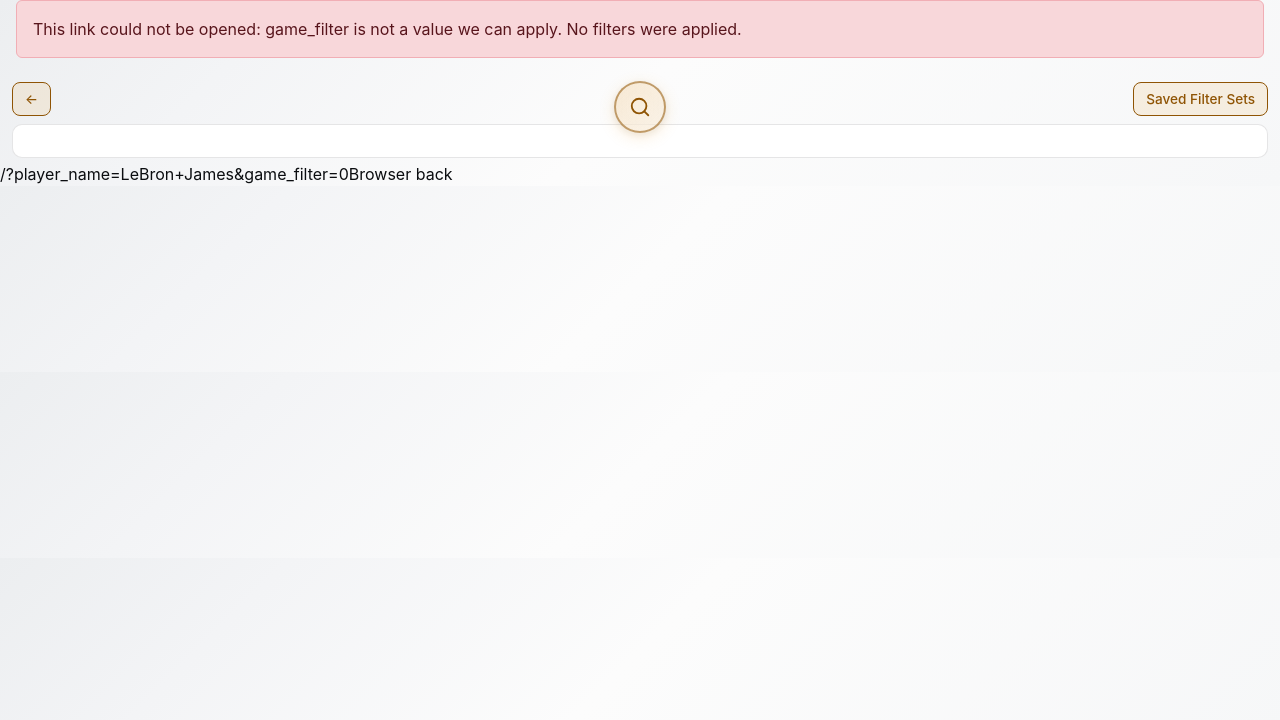
Test case: a refused link, which has no panel, keeps the way out to the saved list
The width and height of the screenshot is (1280, 720).
Check: the message shows "game_filter", box x1=33 y1=19 x2=742 y2=39
Click the button "Saved Filter Sets" at (1201, 99), box x1=1133 y1=82 x2=1268 y2=116
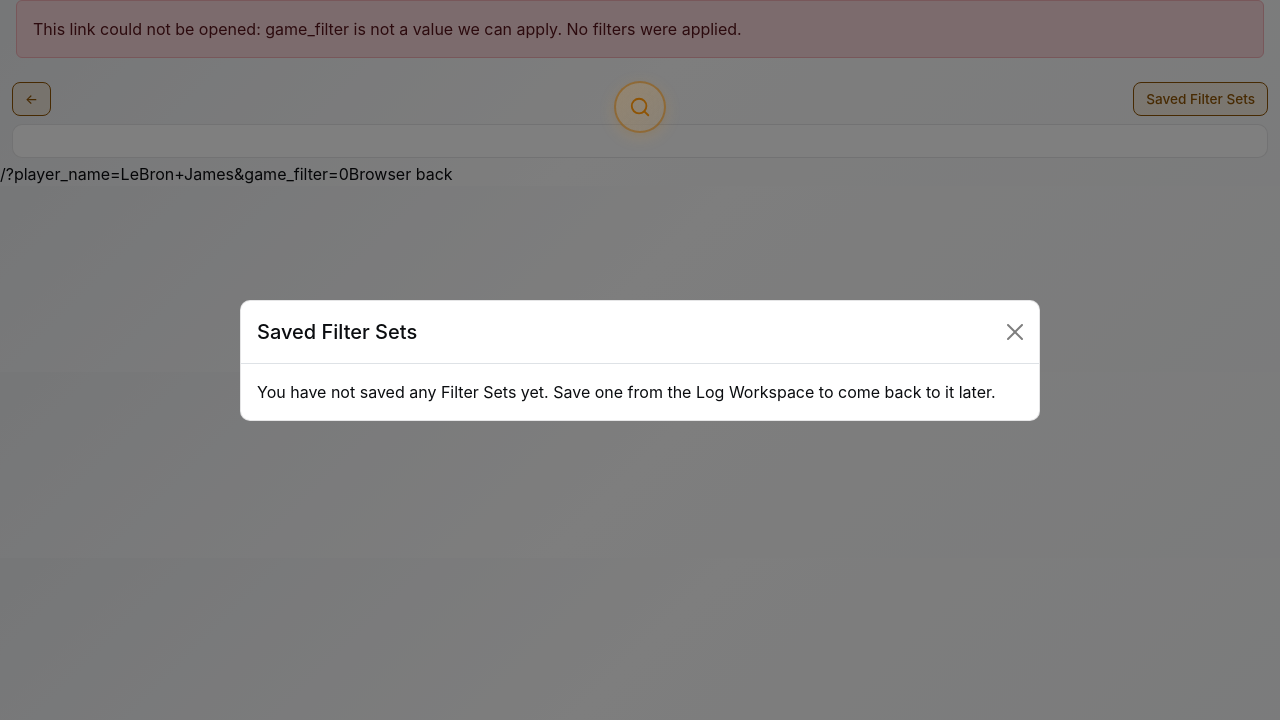
Check: the heading "Saved Filter Sets" is shown, box x1=257 y1=316 x2=417 y2=346
